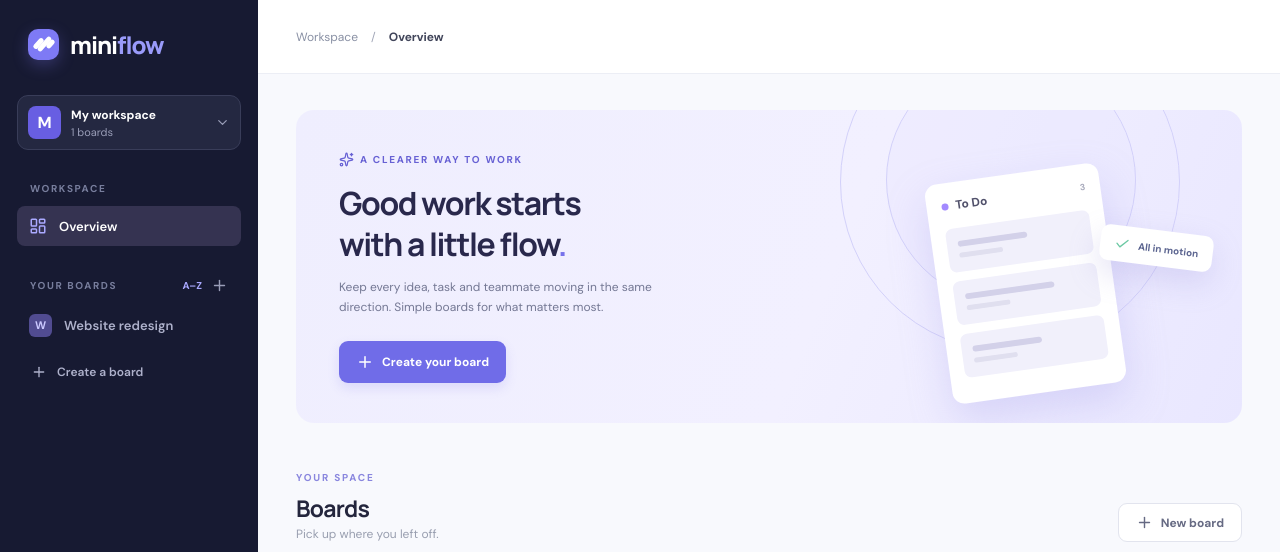
MiniFlow frontend › opens the workspace menu and navigates to a board
Expected: the button "Create your board" is shown, left=339, top=341, right=506, bottom=383
Click the button "M My workspace 1 boards" at (129, 122), box left=17, top=95, right=241, bottom=150
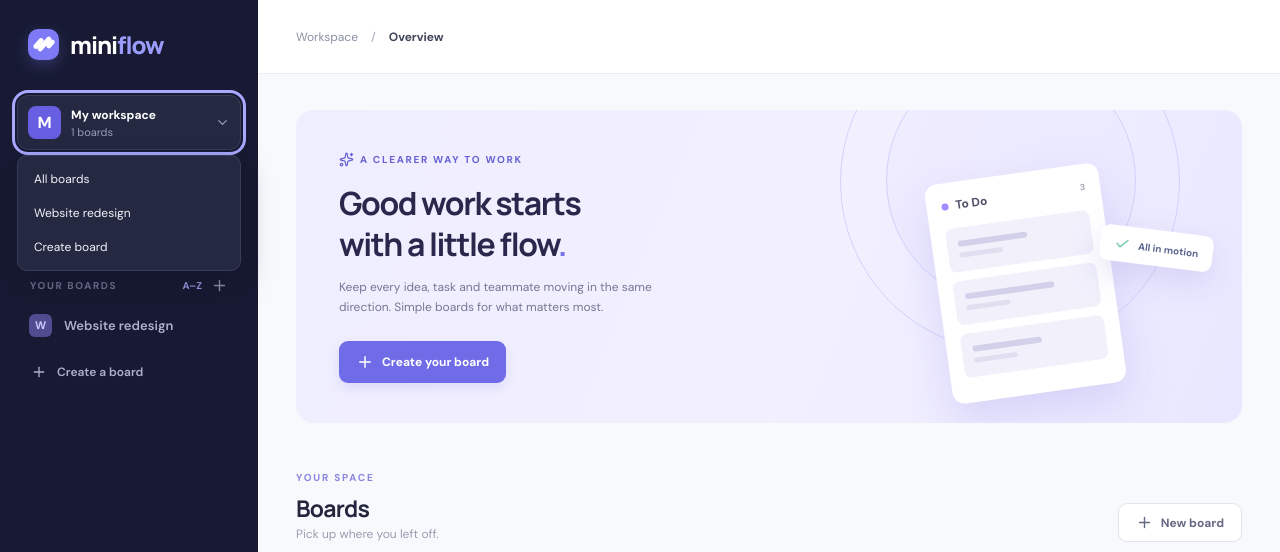
Result: the menu item "Website redesign" is shown
Click the menu item "Website redesign" at (129, 213), box left=24, top=196, right=234, bottom=230
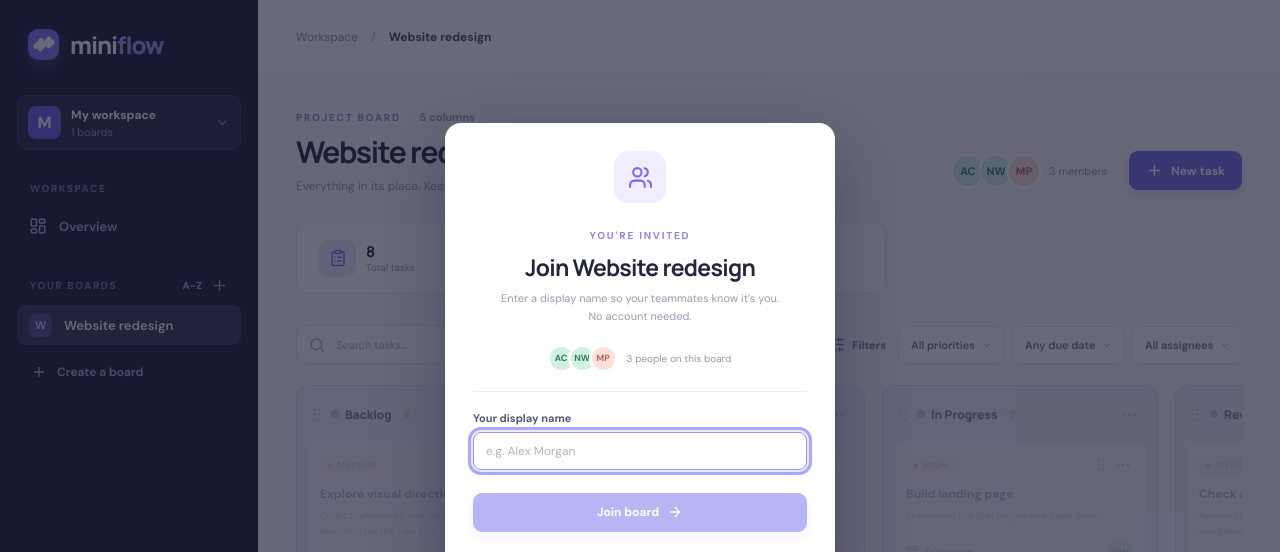
Result: the heading "Join Website redesign" is shown at left=525, top=251, right=755, bottom=283
